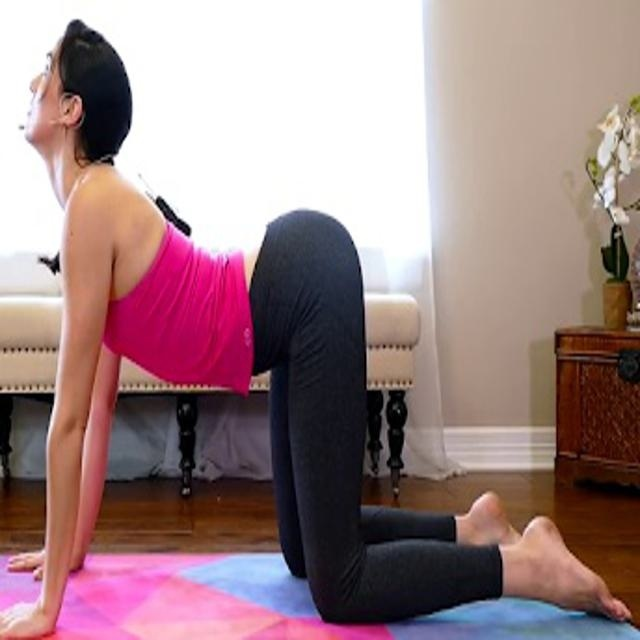Cow_Pose: (5, 26, 627, 633)
